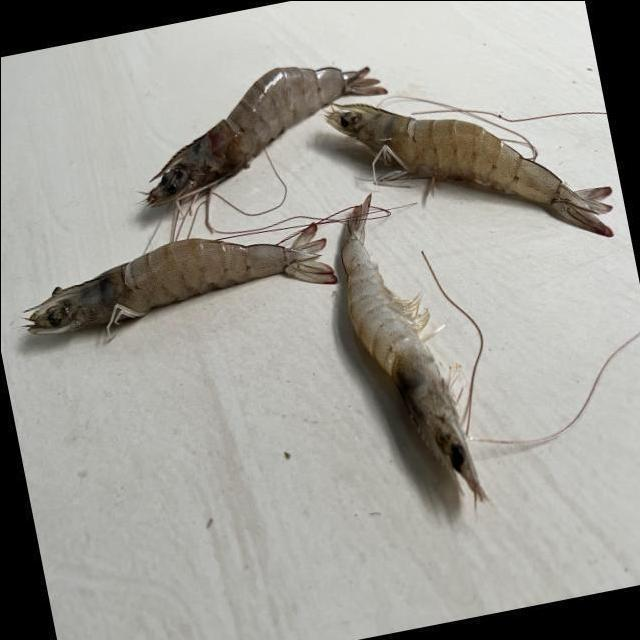shrimp: (341, 194, 486, 500), (324, 102, 613, 235), (25, 222, 336, 333), (144, 65, 385, 205)
